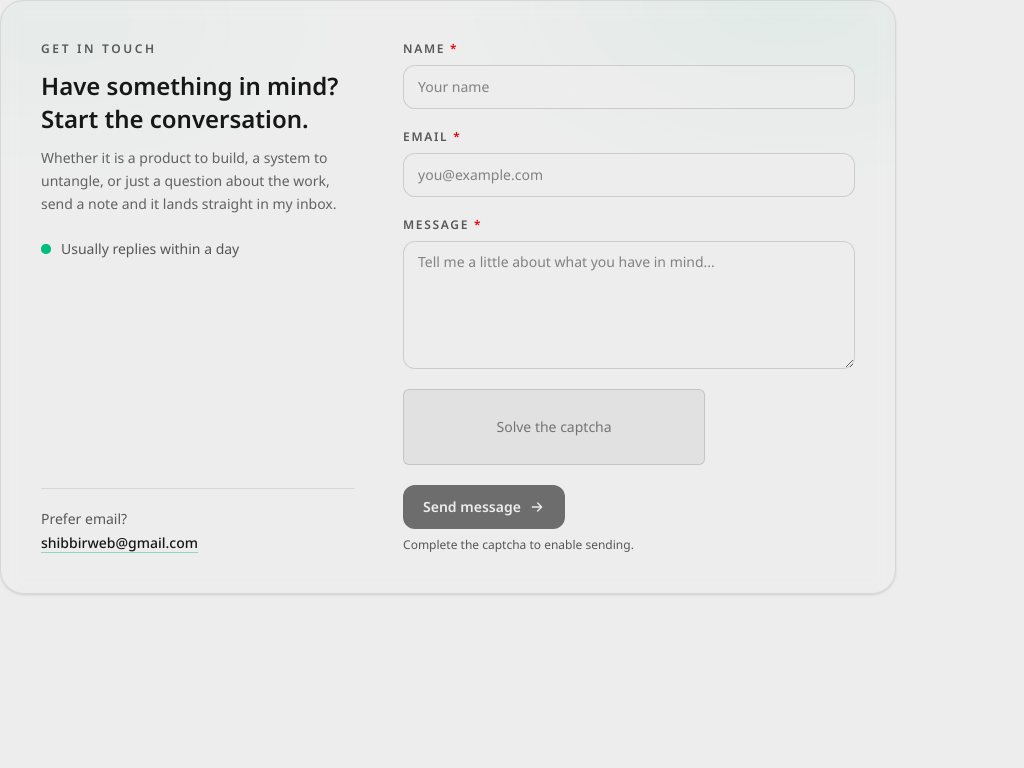
Test case: ContactForm › holds the captcha script back until the reader engages
The width and height of the screenshot is (1024, 768).
What coordinates should you click on to do the following:
click the field labelled "Name *"
I would click on:
 (629, 87)
Its box is [403,65,855,109].
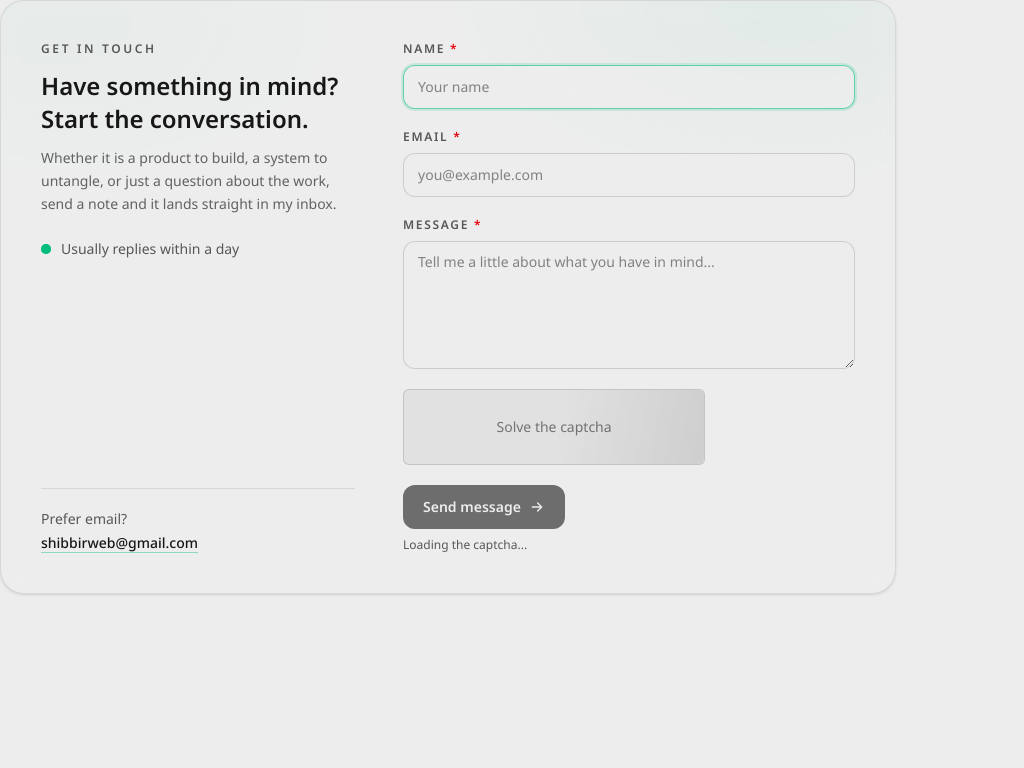
Expected: the text "Loading the captcha..." is shown, [403,537,527,553]
